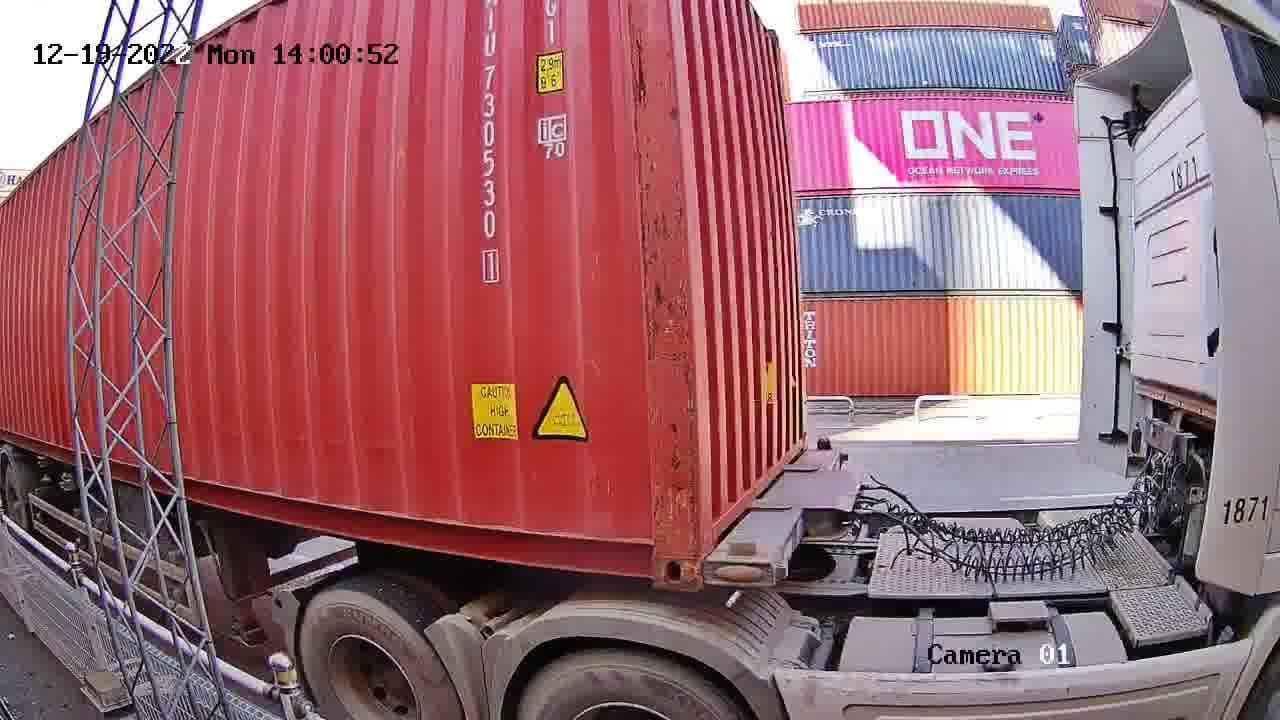Chassis: (704, 450, 844, 587)
Cone: (702, 560, 788, 599), (813, 435, 836, 456)
Hole_R: (605, 482, 701, 586)
Tire: (302, 595, 462, 717), (516, 651, 736, 717)
